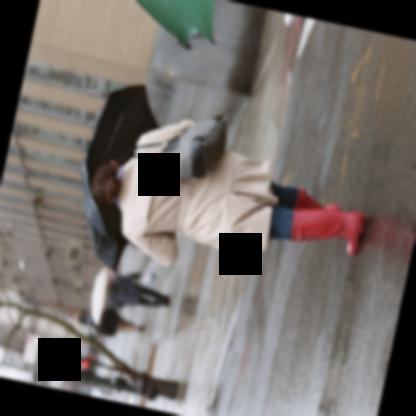handbag: (157, 111, 227, 177), (141, 270, 156, 286)
